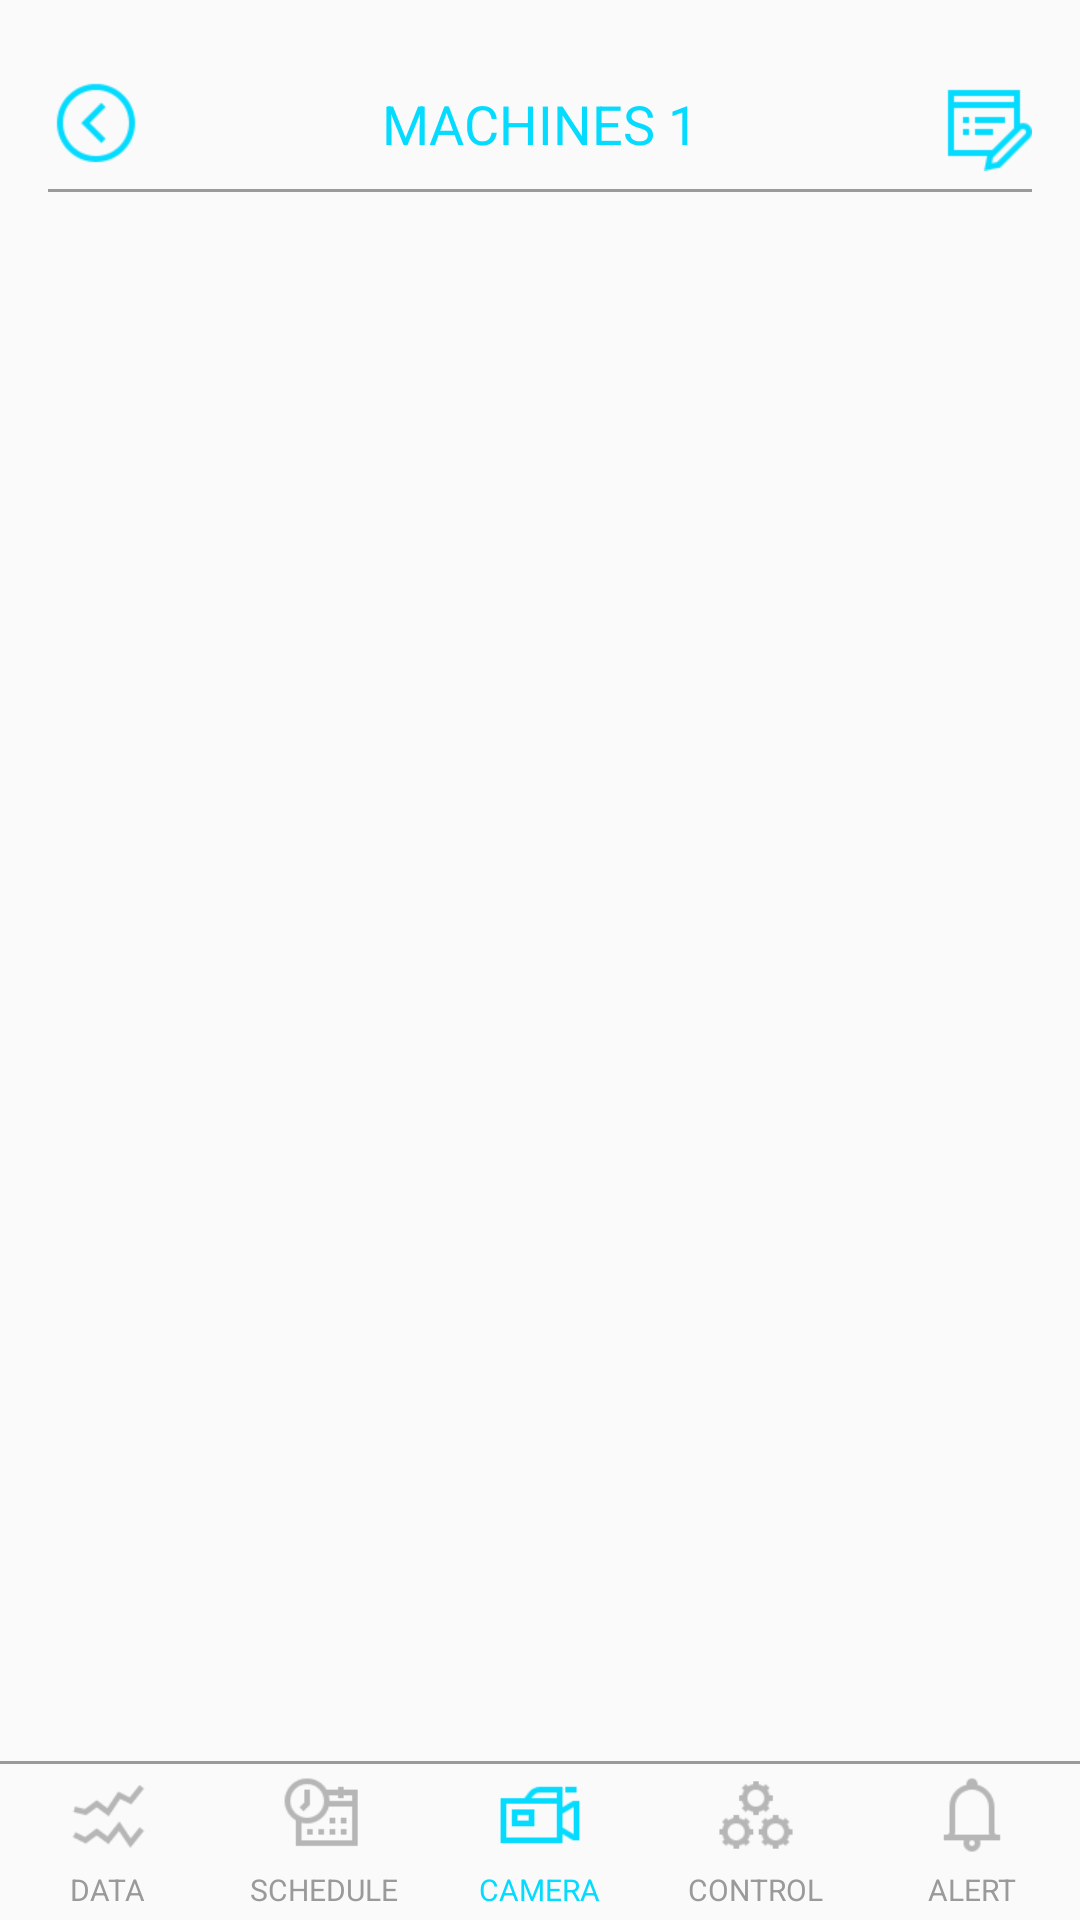

Named icons in this screenshot (1080w x 1920h) and their bounding boxes, (x1, y1, x2, y2):
back to: (56, 83, 136, 163)
edit property: (947, 89, 1032, 171)
